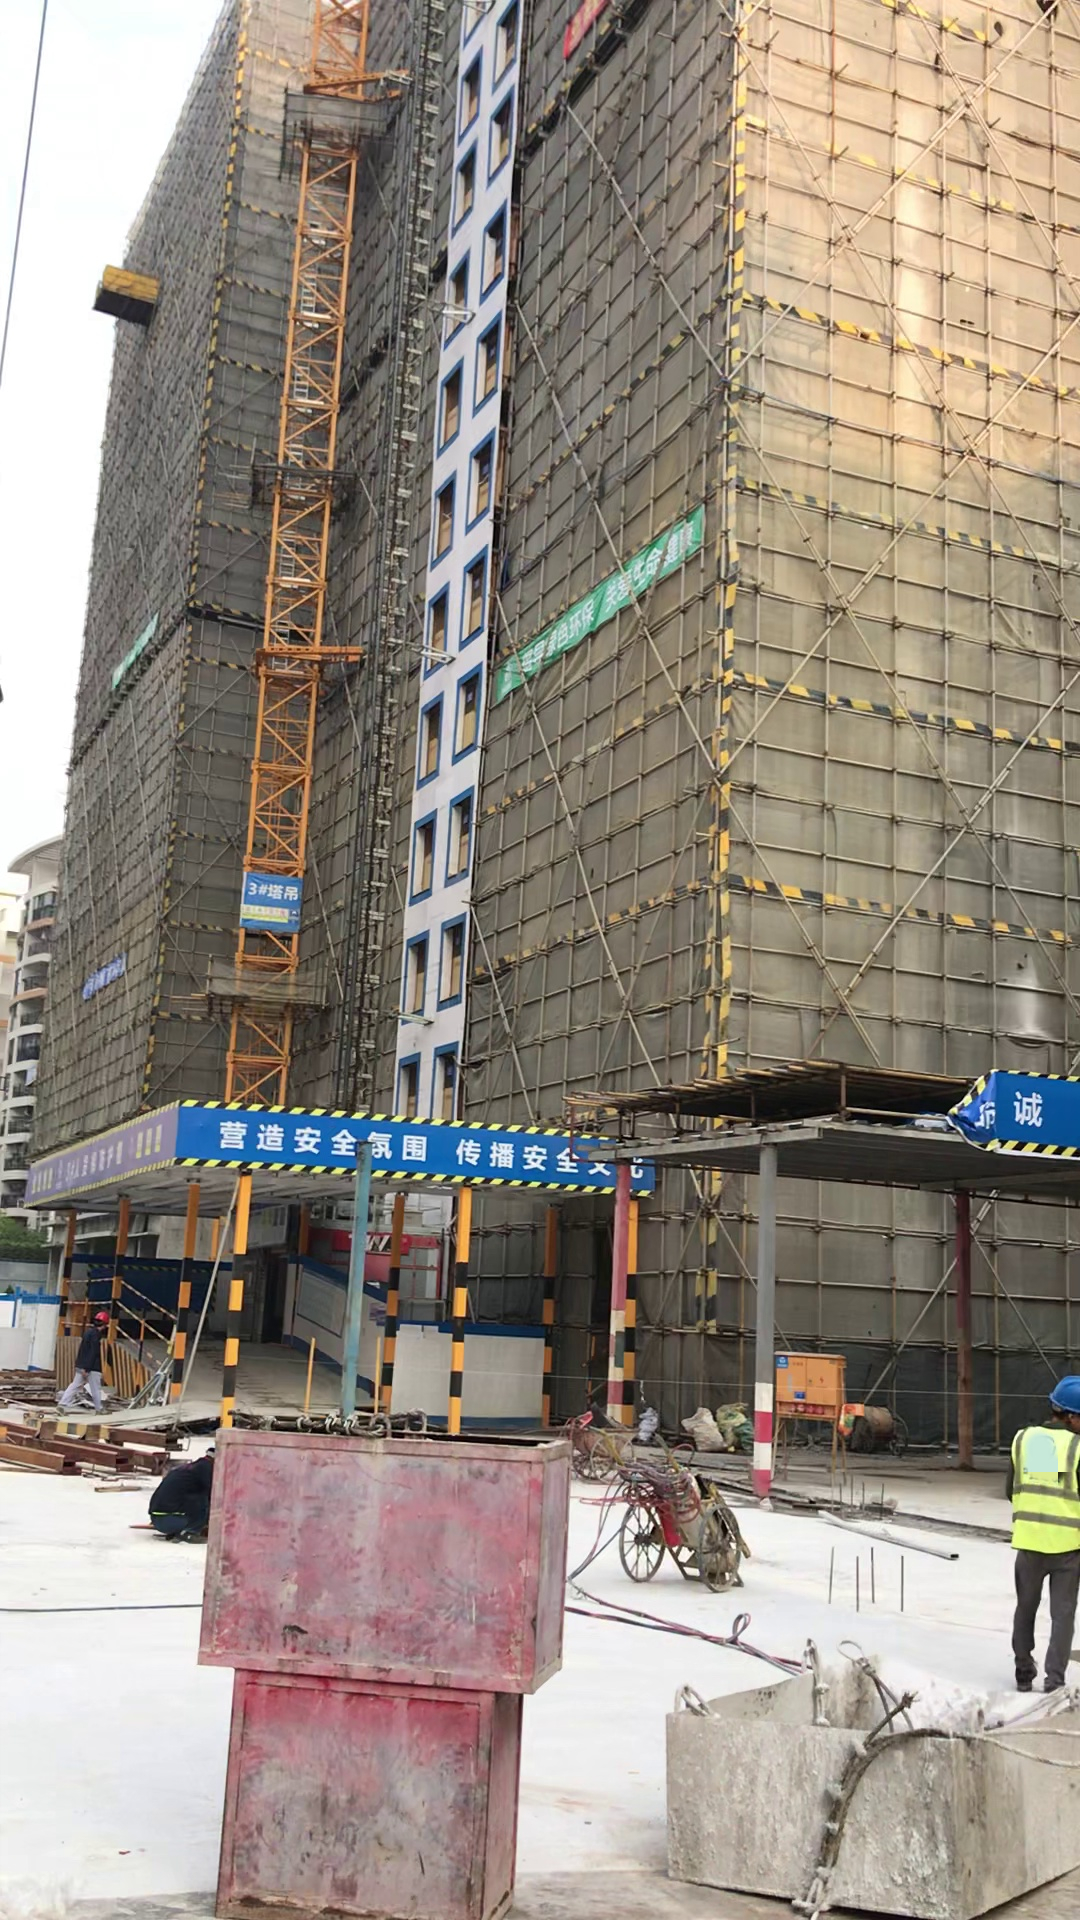ebox: (769, 1345, 852, 1463)
handcart: (610, 1462, 760, 1612), (561, 1403, 646, 1488)
helmet: (1046, 1377, 1080, 1420), (91, 1312, 113, 1329)
hopper: (646, 1642, 1080, 1911)
person: (1013, 1371, 1075, 1698), (148, 1444, 214, 1545), (67, 1306, 111, 1418)
slogan: (492, 510, 705, 703), (202, 1109, 631, 1191), (20, 1113, 178, 1203), (231, 865, 307, 945), (72, 956, 128, 1012)
vest: (1010, 1425, 1078, 1562)
